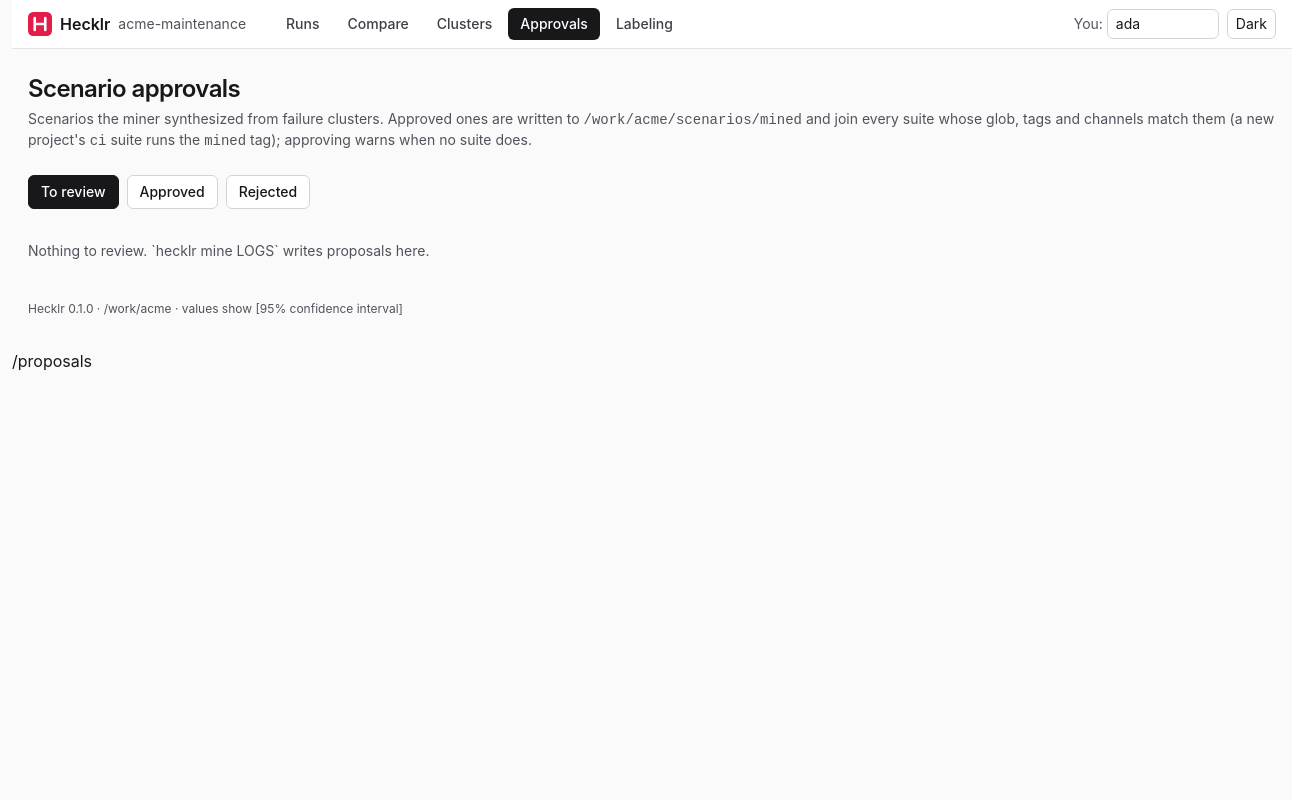
Test: ProposalsPage › shows decided proposals read-only in their tab
This screenshot has width=1292, height=800.
Expected: the text "Nothing to review. `hecklr mine LOGS` writes proposals here." is shown, top-left (28, 242), bottom-right (429, 259)
What coordinates should you click on to do the following:
click the tab "Approved"
I would click on:
 (172, 192)
Its box is top-left (126, 175), bottom-right (218, 209).
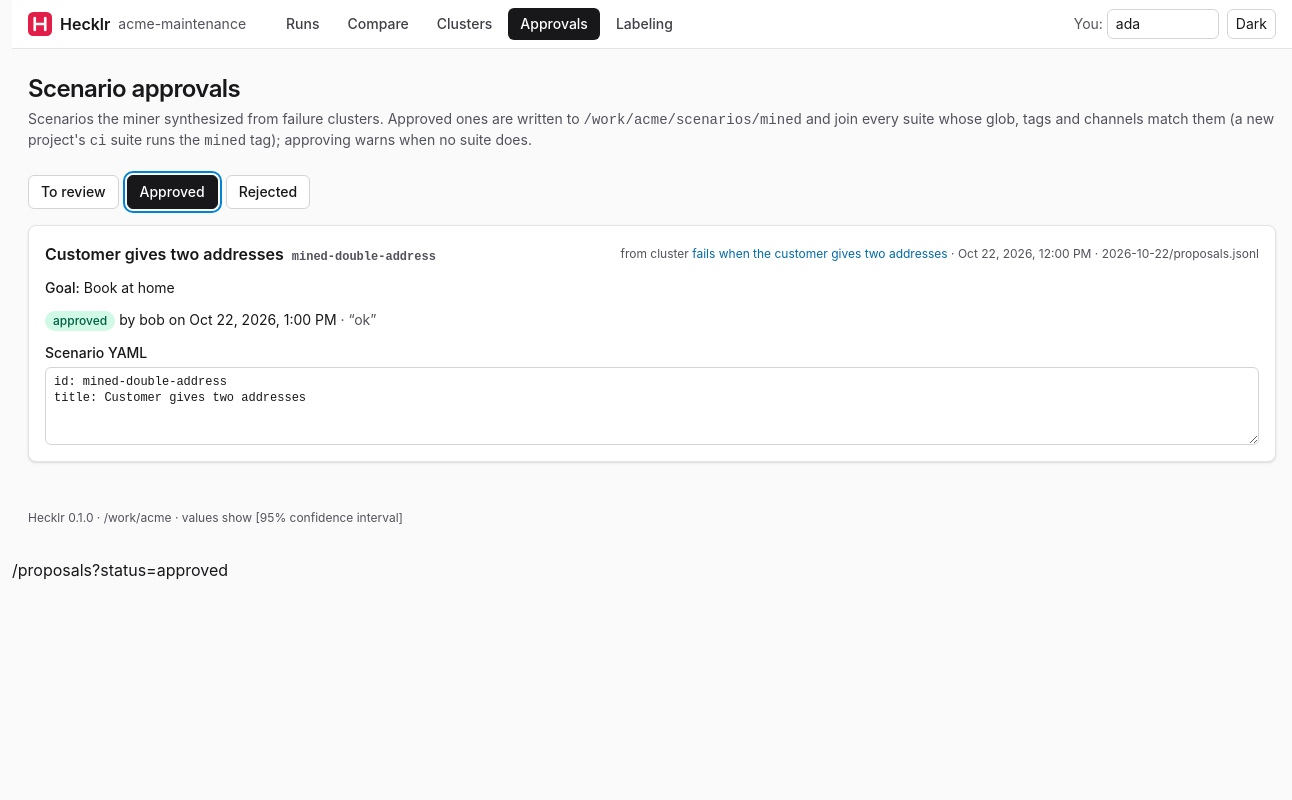
Now the text "approved by bob on Oct 22, 2026, 1:00 PM · “ok”" is shown, box top-left (45, 311), bottom-right (376, 331)
